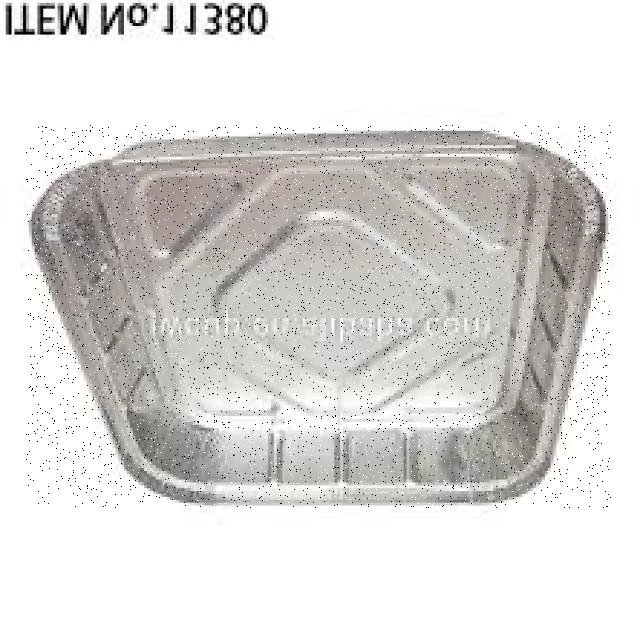metal: (26, 125, 611, 508)
